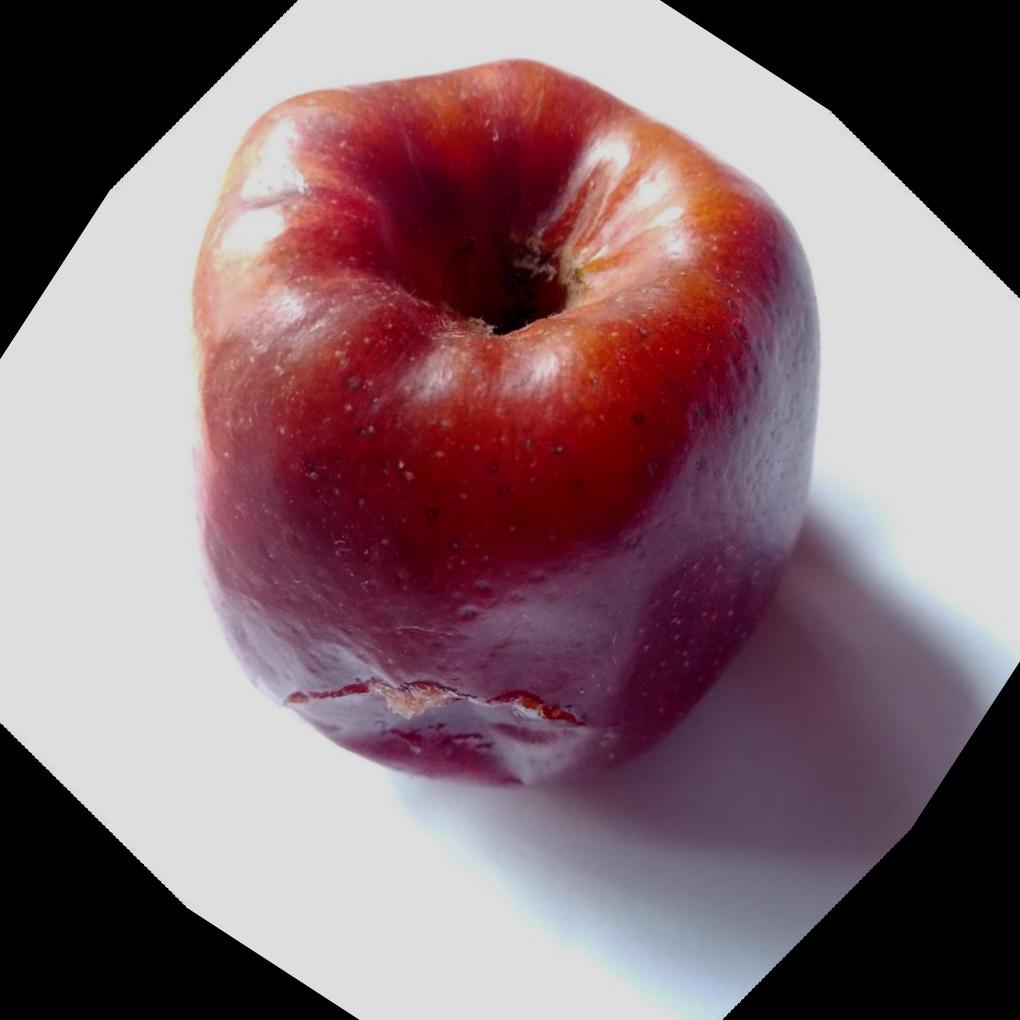FreshOrange: (185, 57, 823, 796)
